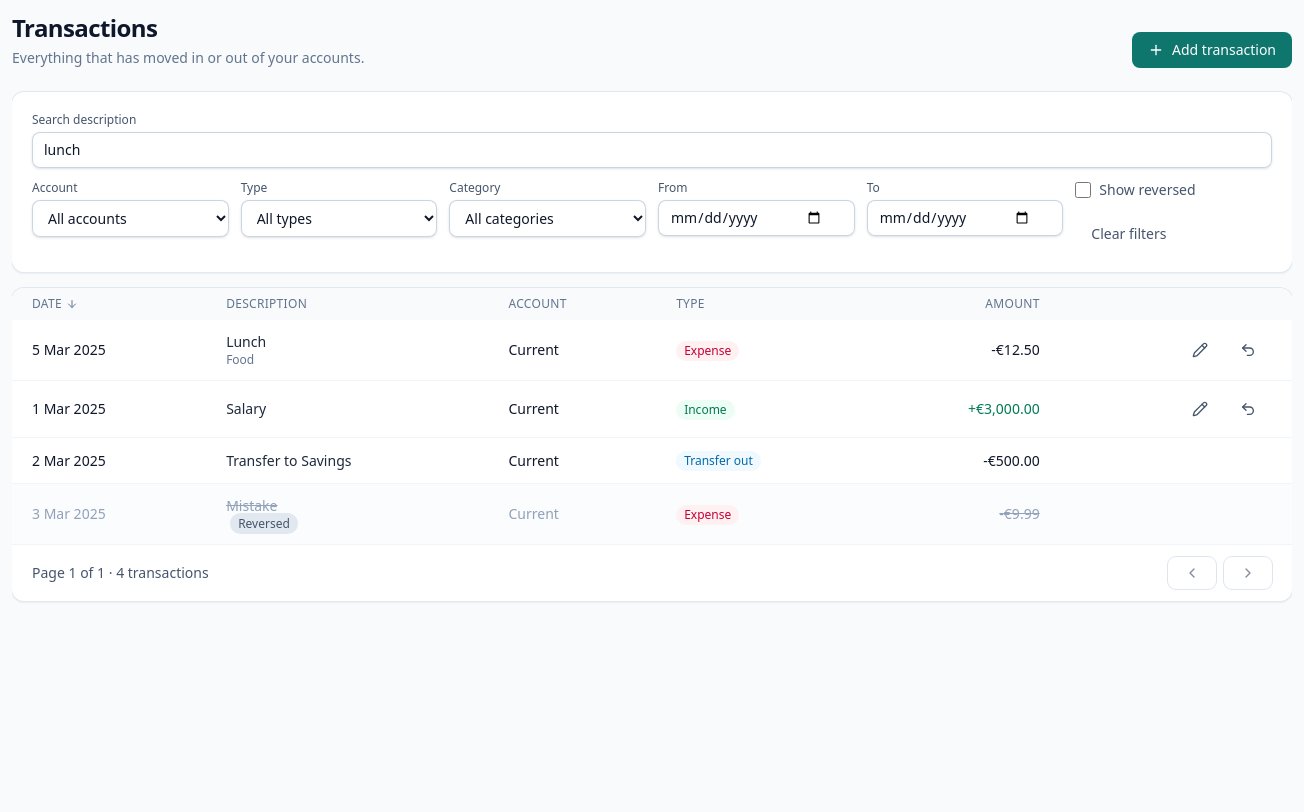
it: TransactionsPage › reads the search text from the address bar and clears it with Clear filters
expect the text "Lunch" is shown: met, box [226,332,266,351]
expect the search field labelled "Search description" holds "lunch": met, box [32,132,1272,168]
Step 1. Click the button "Clear filters" → click(1129, 234), box [1075,216,1182,252]
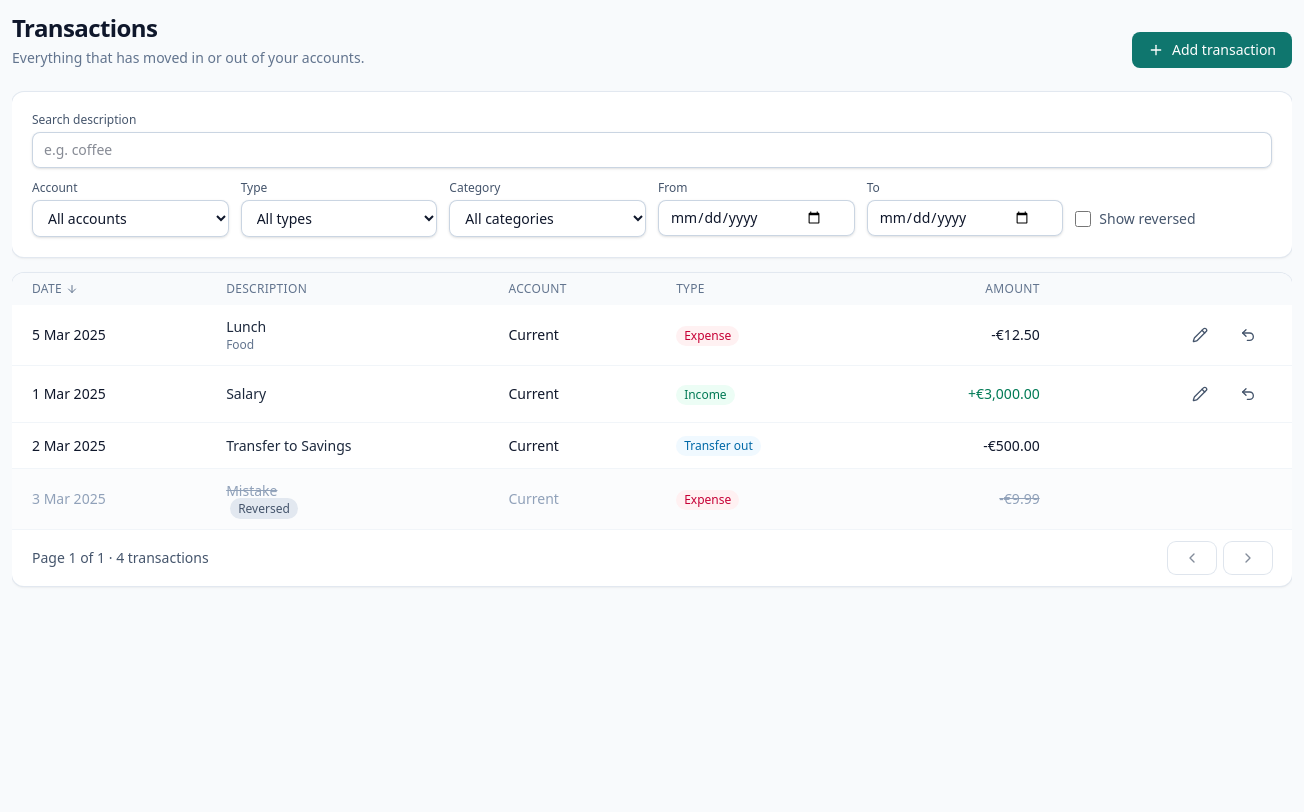
expect the search field labelled "Search description" is empty: met, box [32,132,1272,168]
